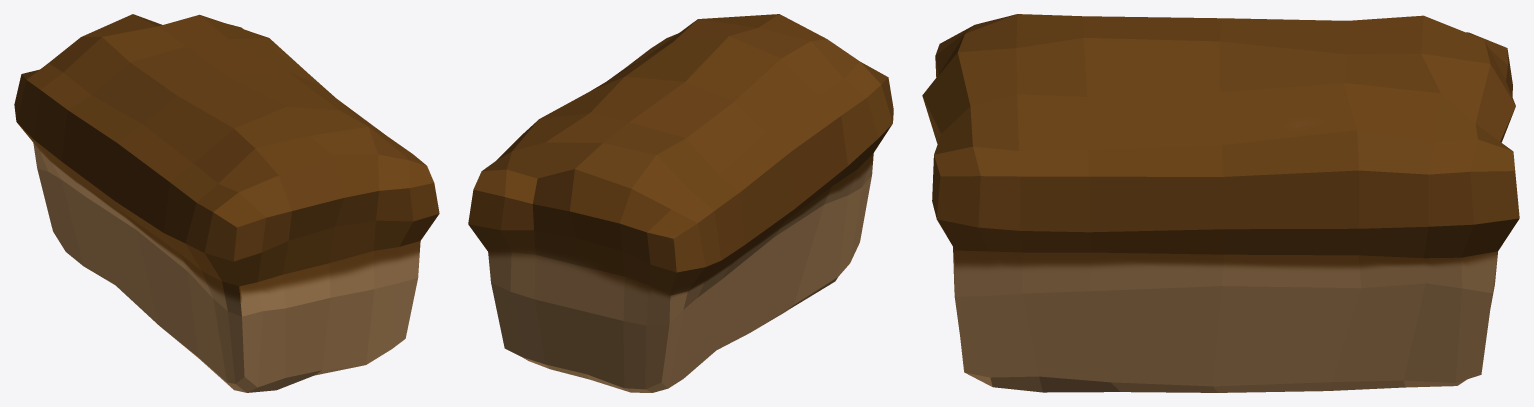
The model's file is bread.glb.
3 renders of one model, left to right at view 1: azimuth 30°, elevation 25°; view 2: azimuth 150°, elevation 25°; view 3: azimuth 270°, elevation 25°, orthographic. The views are drawn at different scales.
Parts seen in each view (by area): view 1: Cube; view 2: Cube; view 3: Cube.
Boxes of the visible parts, x1,y1,x2,y2 form: Cube: (14,14,439,392); Cube: (468,14,893,392); Cube: (922,14,1519,392).
Bounding box in the file's own units: 2.64 × 2.71 × 4.42.
Materials: 1 (1 with a texture image).
